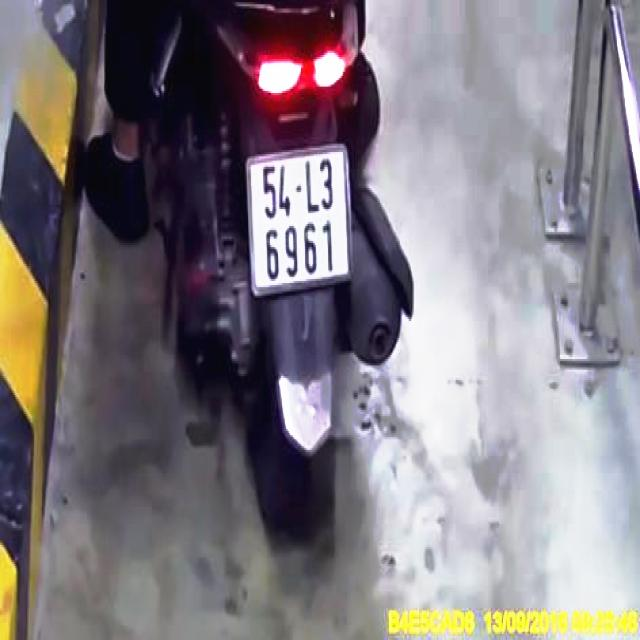license_plate: (250, 148, 351, 294)
